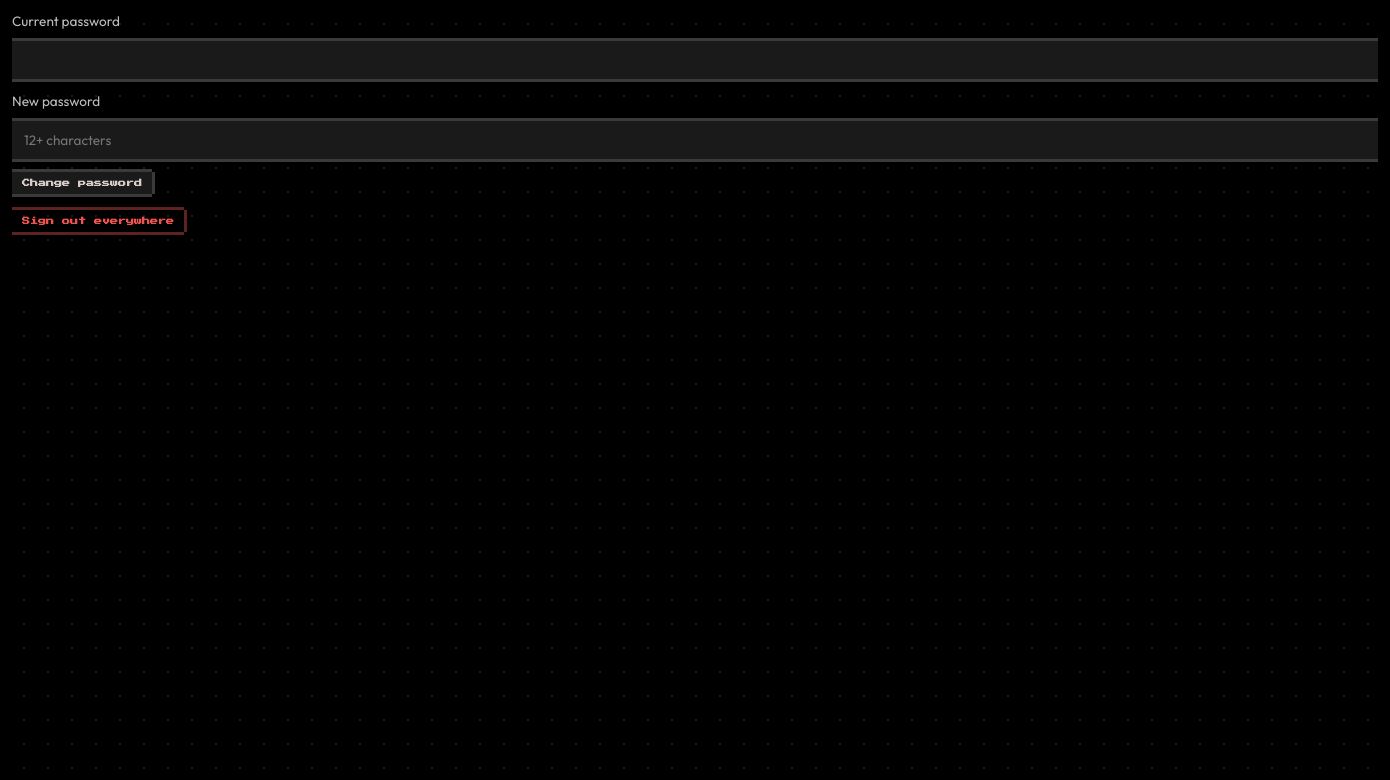
Scenario: AccountSecurity › sends the change and shows the server's reason when refused
Type "old one" into the password field labelled "Current password" at {"x": 695, "y": 60}, box [12,41,1378,79]
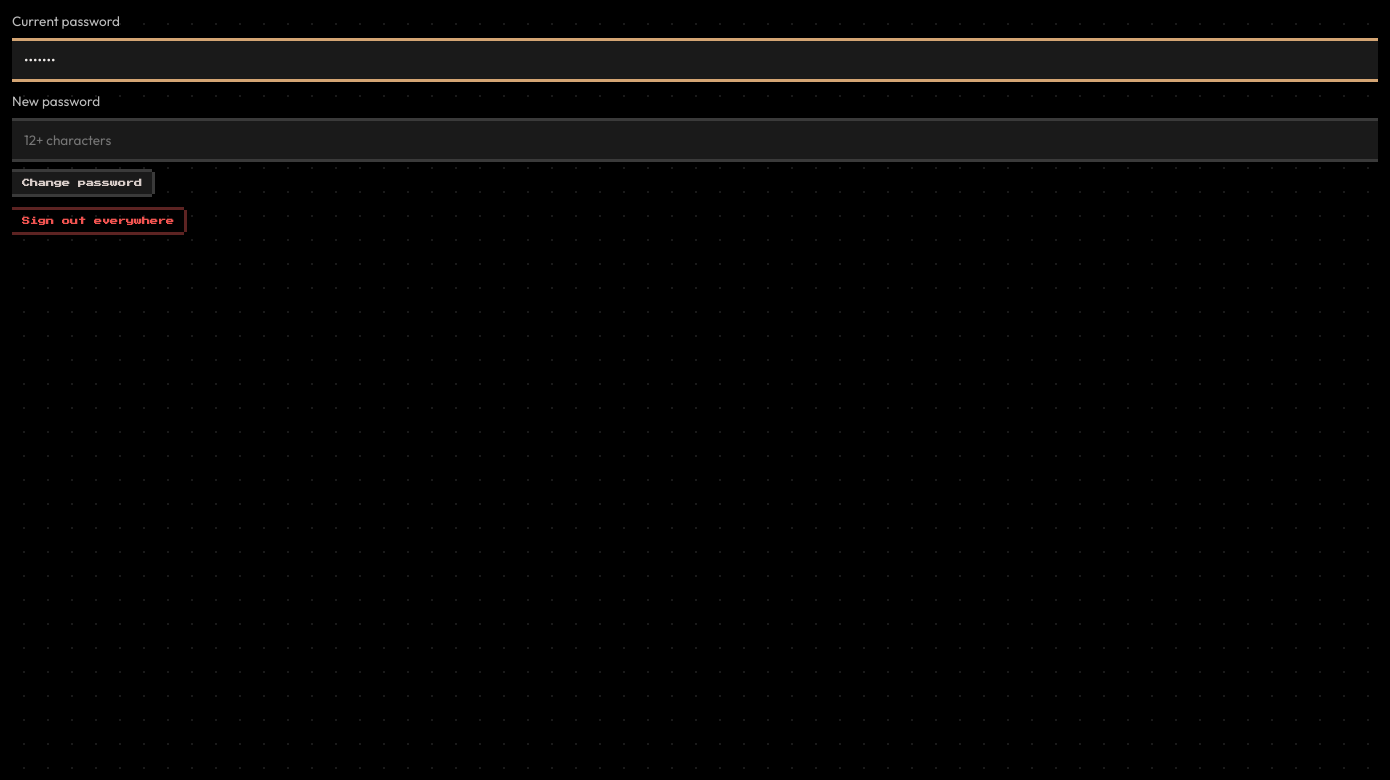
Type "password1234" into the password field labelled "New password" at {"x": 695, "y": 140}, box [12,121,1378,159]
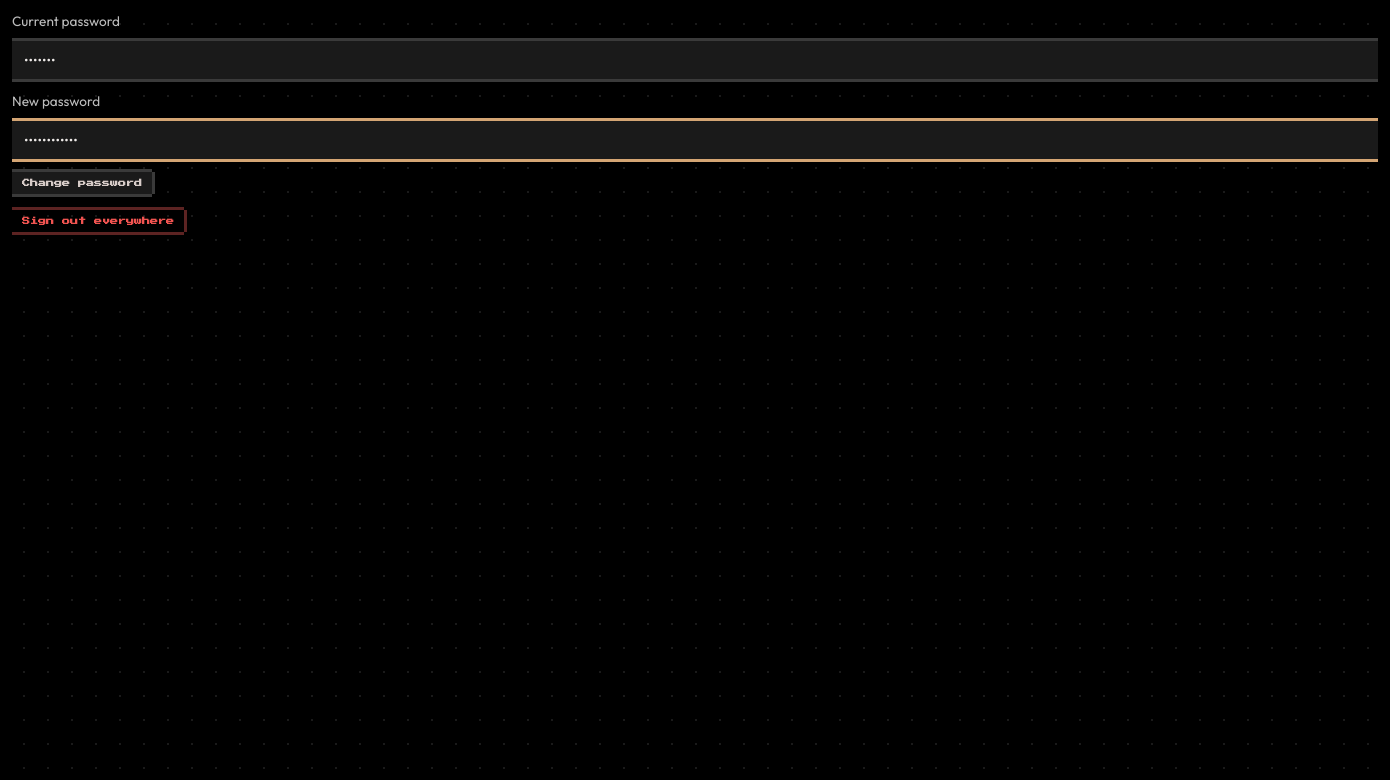
Click the button "Change password" at {"x": 82, "y": 183}, box [12,172,152,194]
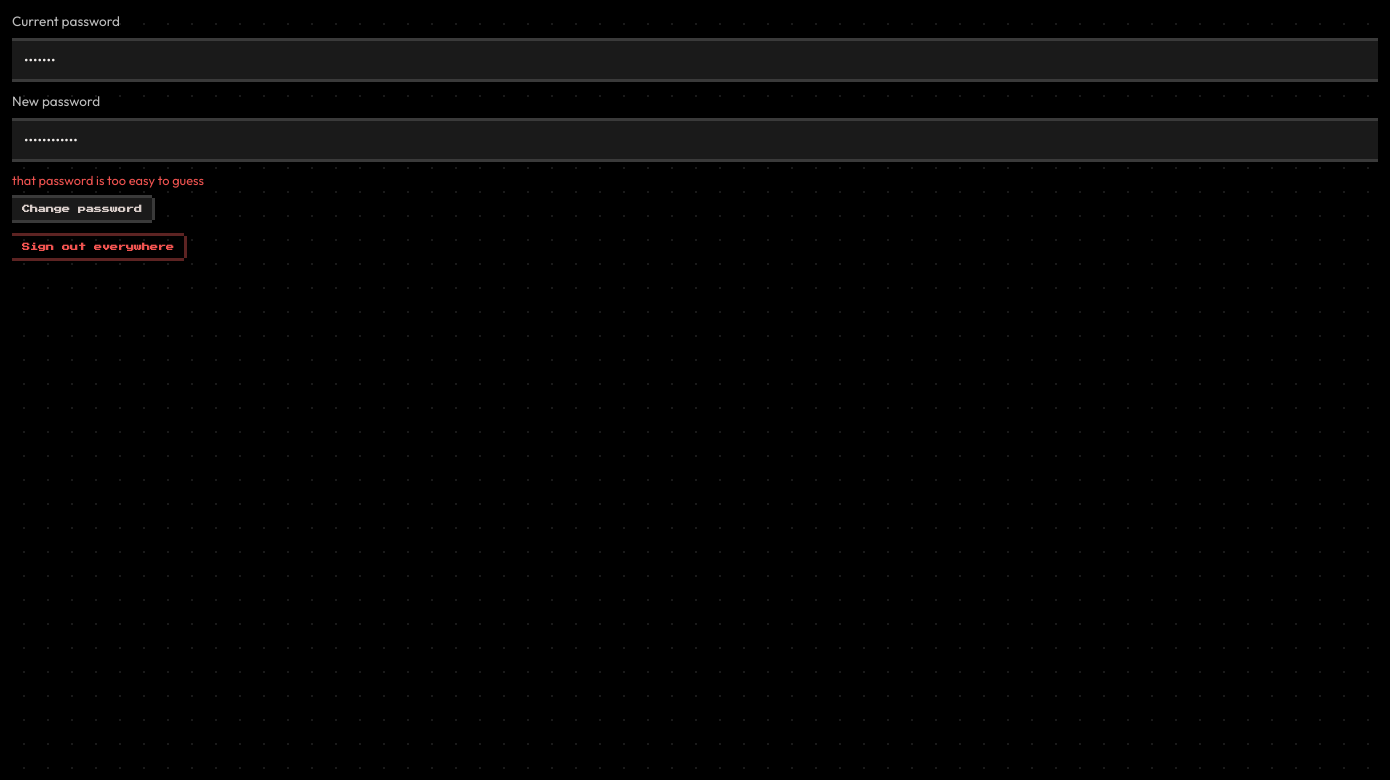
Expected: the message shows "too easy", [12,172,204,188]
